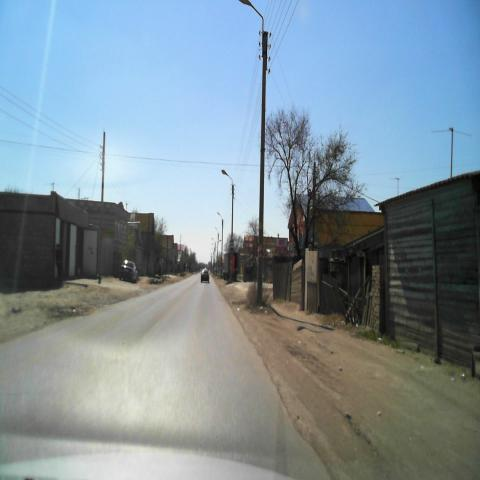5_16: (230, 240, 234, 250)
